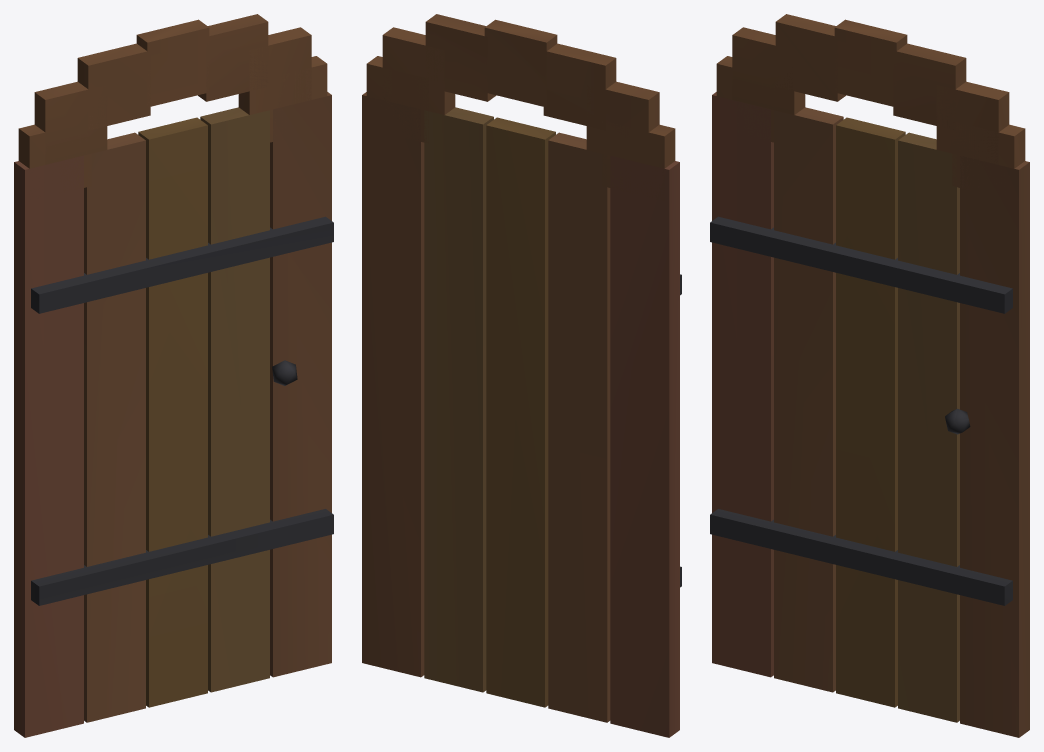
The model's file is door.glb.
3 renders of one model, left to right at view 1: azimuth 30°, elevation 25°; view 2: azimuth 150°, elevation 25°; view 3: azimuth 330°, elevation 25°, orthographic.
Parts seen in each view (by area): view 1: Door; view 2: Door; view 3: Door.
Boxes of the visible parts, bbox=[...] form: Door: bbox=[14, 14, 333, 737]; Door: bbox=[362, 14, 681, 737]; Door: bbox=[710, 14, 1029, 737].
Bounding box in the file's own units: 0.99 × 2.05 × 0.134.
